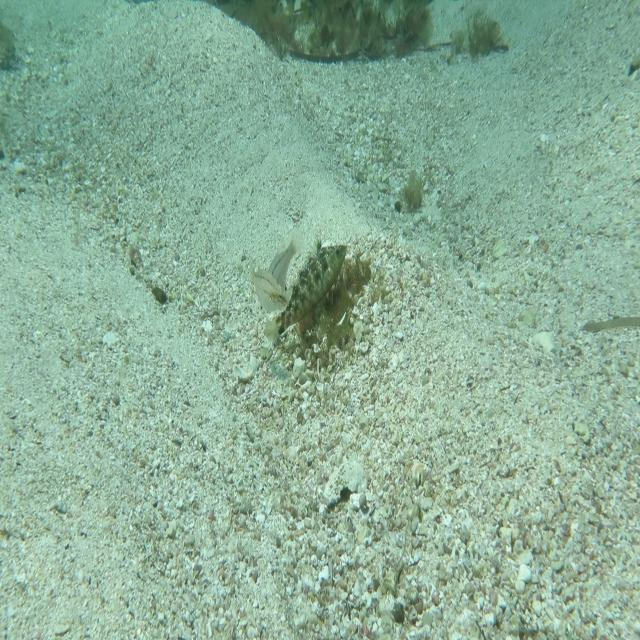ROLL: (263, 230, 350, 348)
female: (266, 227, 306, 296)
nest: (284, 242, 381, 362)
other_fish: (246, 258, 290, 314)
